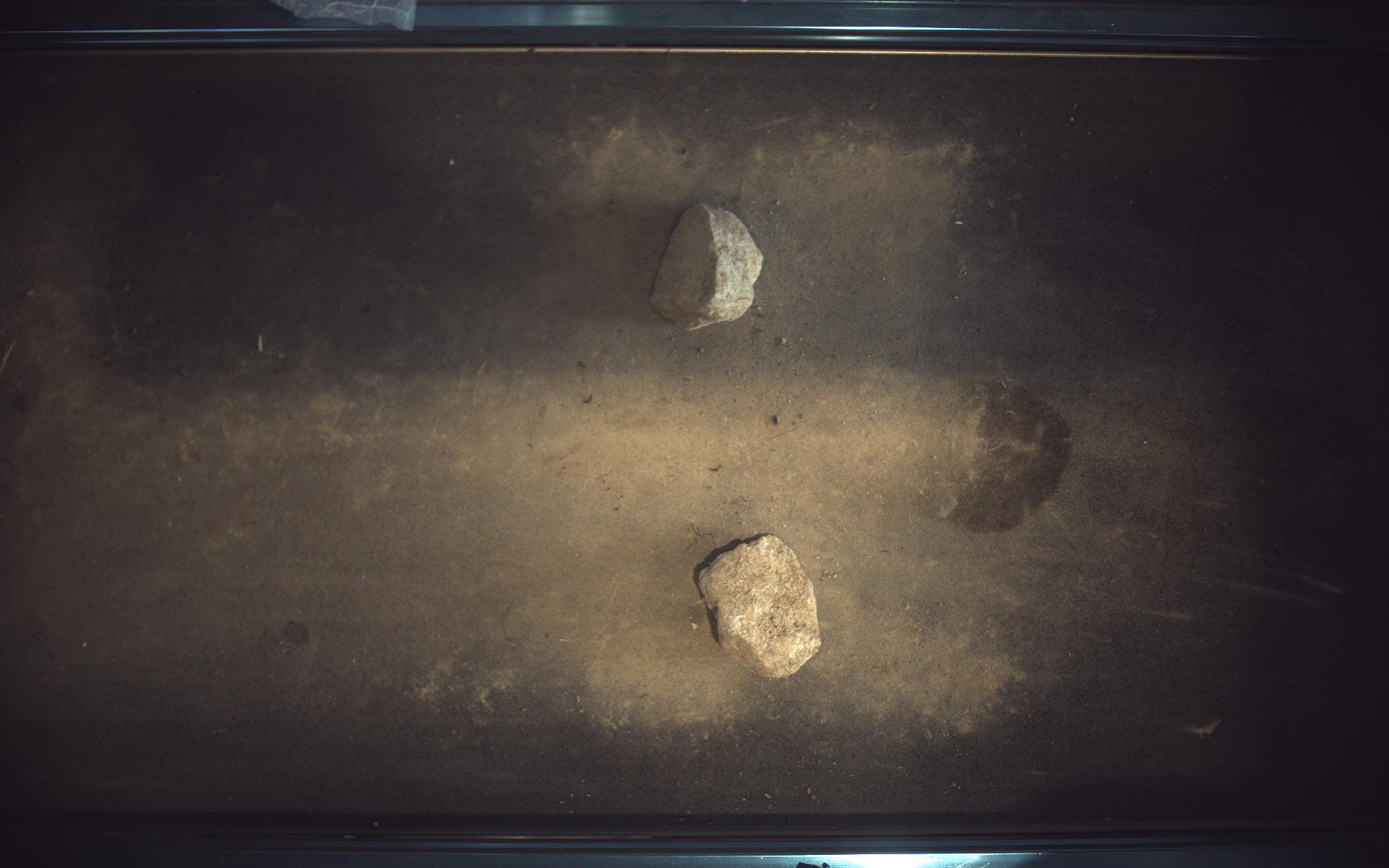stone: (700, 536, 823, 678), (651, 203, 764, 330)
